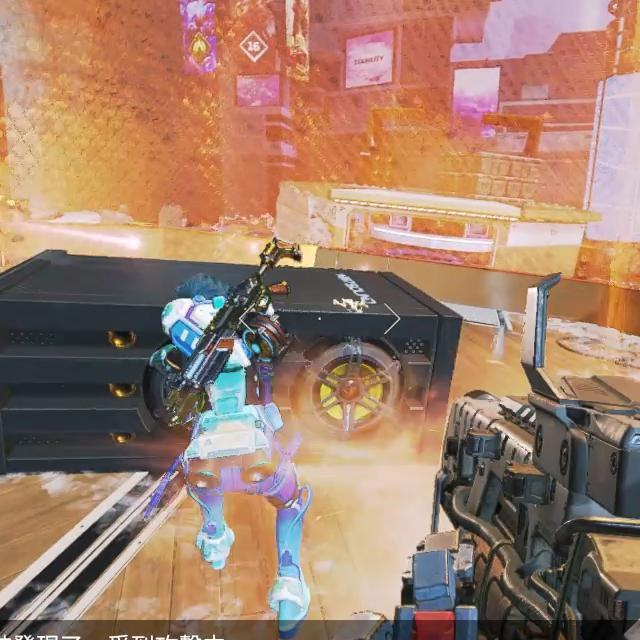avatar: (154, 274, 311, 639)
